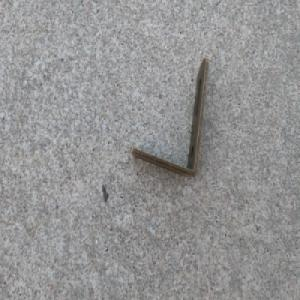MetalPart: (129, 57, 209, 179)
